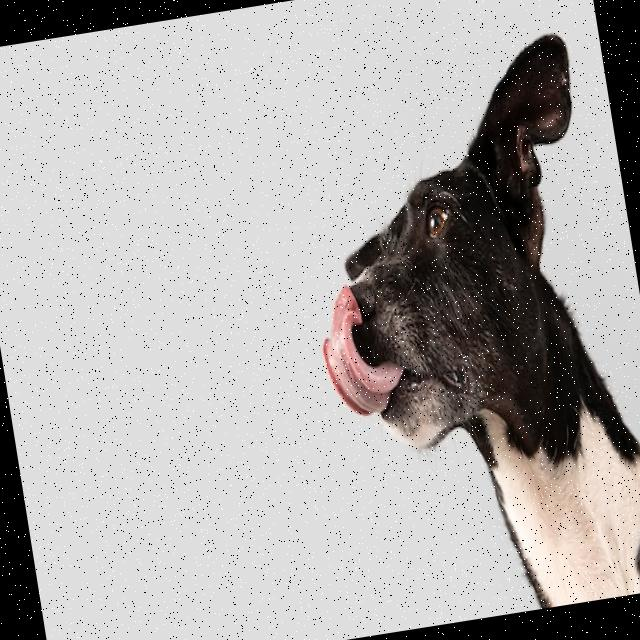Dog: (280, 27, 640, 636)
